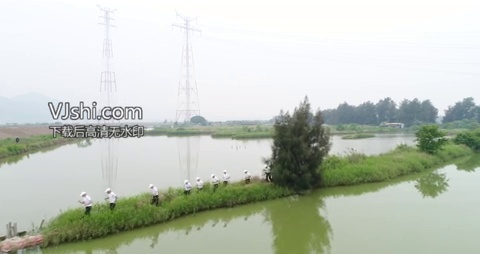tower_up: (167, 7, 202, 126), (93, 3, 127, 101)
